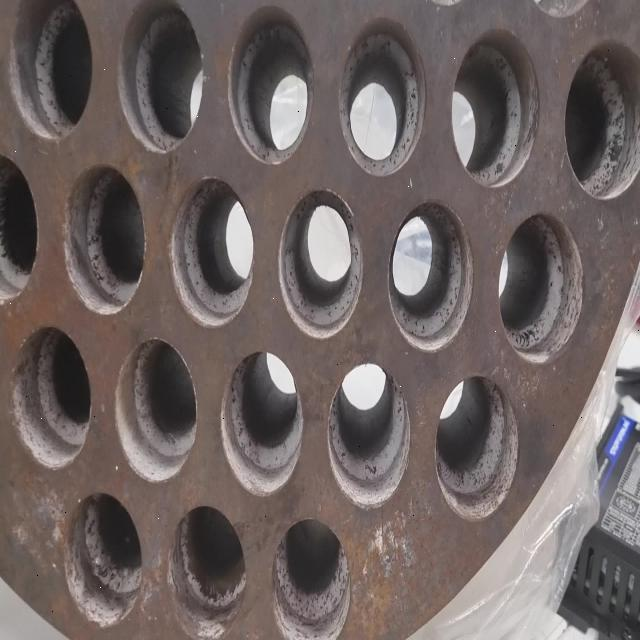Hole: (450, 29, 540, 188), (339, 16, 426, 178), (227, 4, 313, 166), (168, 177, 254, 329), (387, 200, 473, 352), (118, 2, 204, 154), (278, 188, 363, 340), (498, 212, 583, 364), (62, 163, 146, 316), (434, 372, 518, 522), (327, 363, 410, 510), (564, 40, 640, 200), (6, 2, 92, 142), (115, 337, 197, 483), (220, 350, 302, 496), (10, 324, 91, 470), (64, 490, 143, 628), (167, 503, 246, 638), (272, 517, 350, 640), (0, 152, 39, 307)
